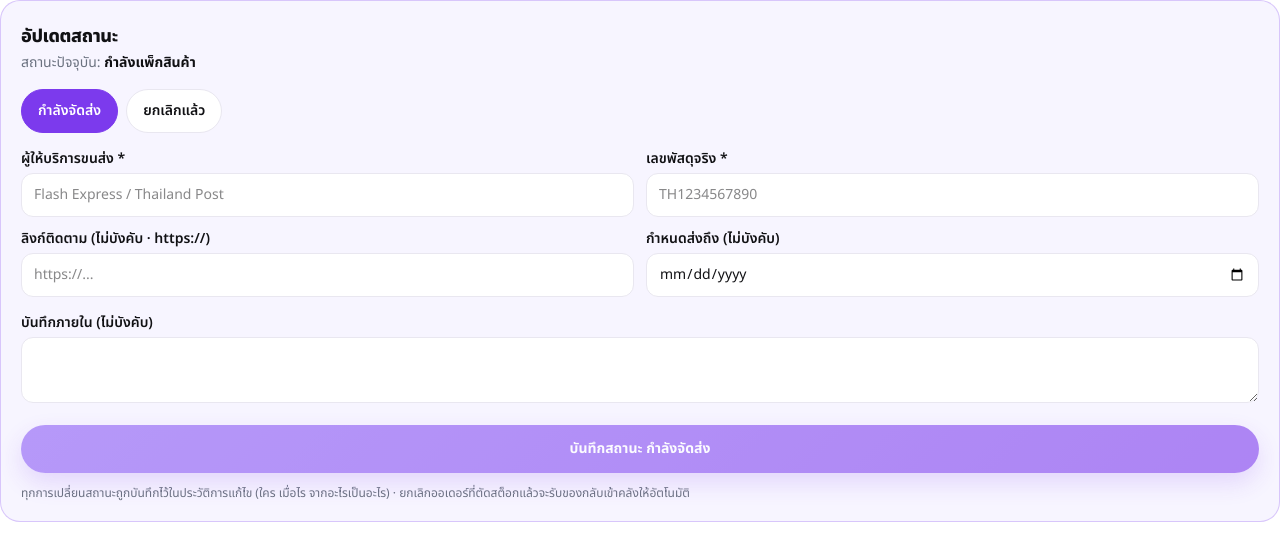
it: OrderStatusForm — ข้อความที่แอดมินได้อ่าน (STEP 37) › ยิงไม่ผ่านต้องไม่สั่งให้หน้าอ่านข้อมูลใหม่ — ไม่มีอะไรเปลี่ยน
Click the button "ยกเลิกแล้ว" at (174, 111), box [126,89,222,133]
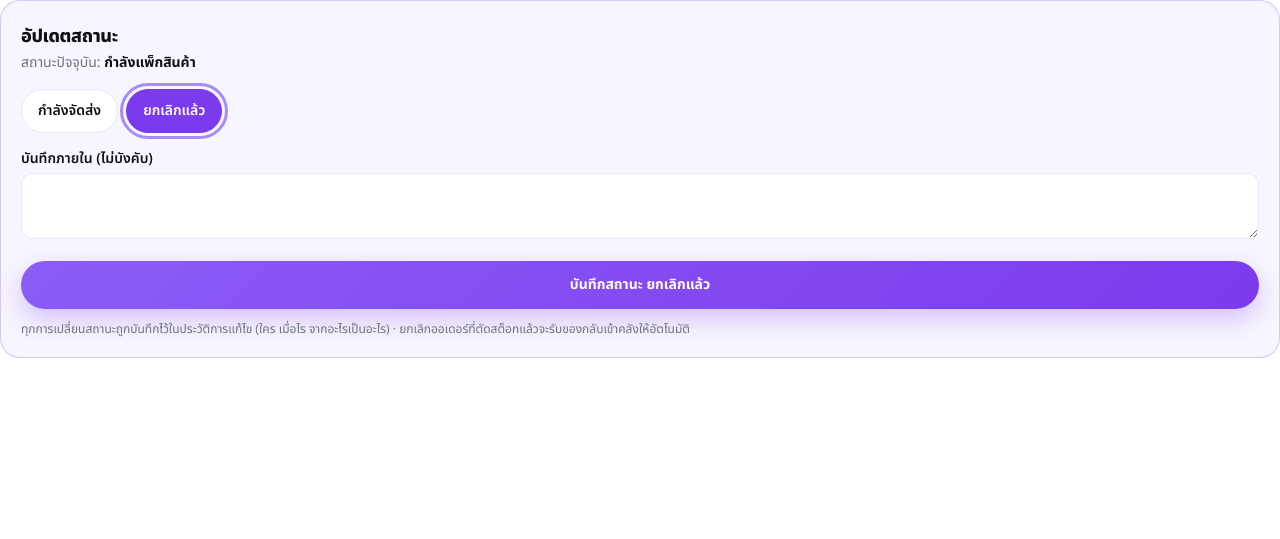
Click the button "บันทึกสถานะ ยกเลิกแล้ว" at (640, 285), box [21,261,1259,309]
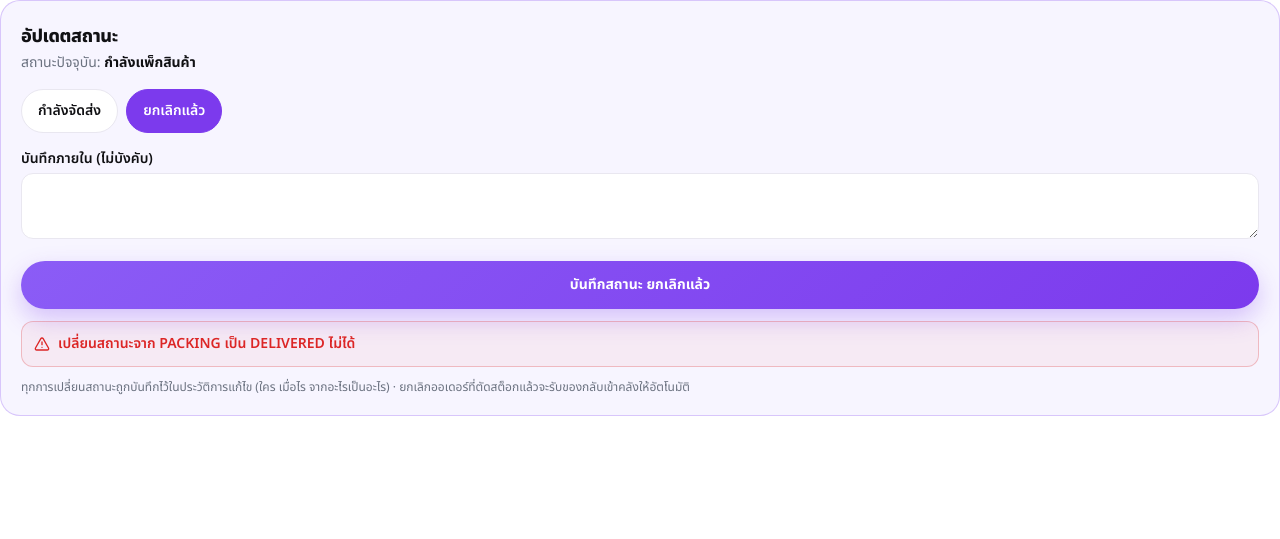
Now the message "เปลี่ยนสถานะจาก PACKING เป็น DELIVERED ไม่ได้" is shown, box [21,321,1259,367]
